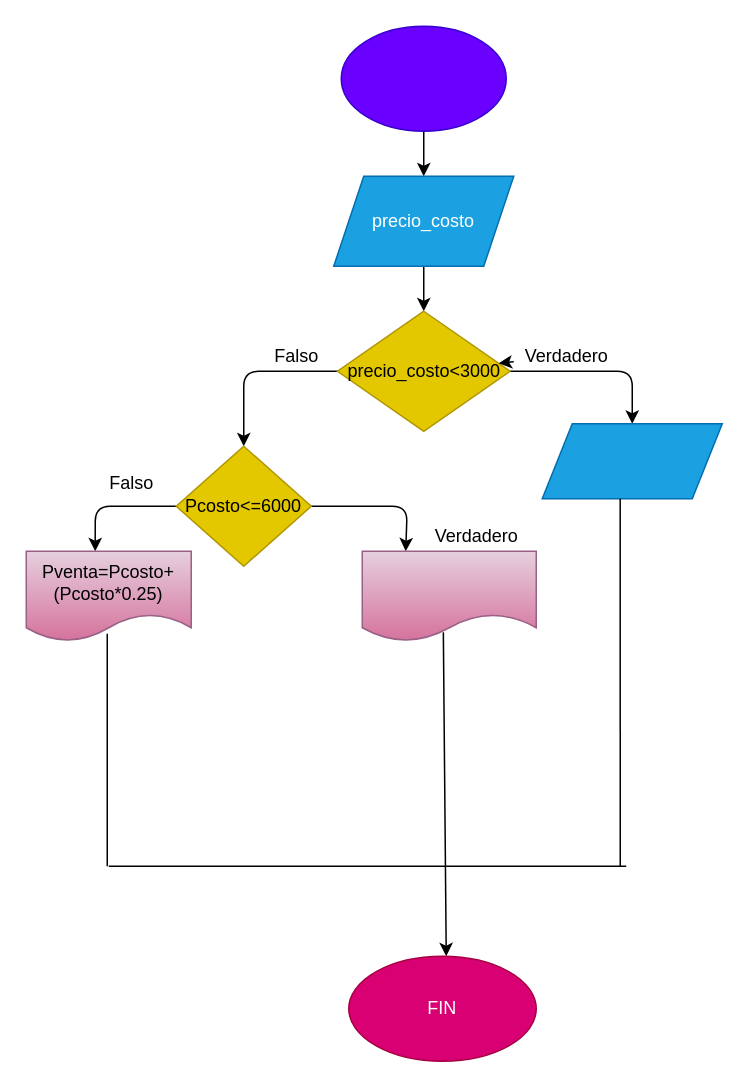
Some shapes in this 749 by 1088 pixel diagram are drawn without their labels. The centre of each missing label's shape, as x and y in pixels:
"INICIO" belongs at point (423, 78).
"Pventa=Pcosto+ (Pcosto*0.15)" belongs at point (631, 460).
"Pventa=Pcosto+500" belongs at point (448, 595).
